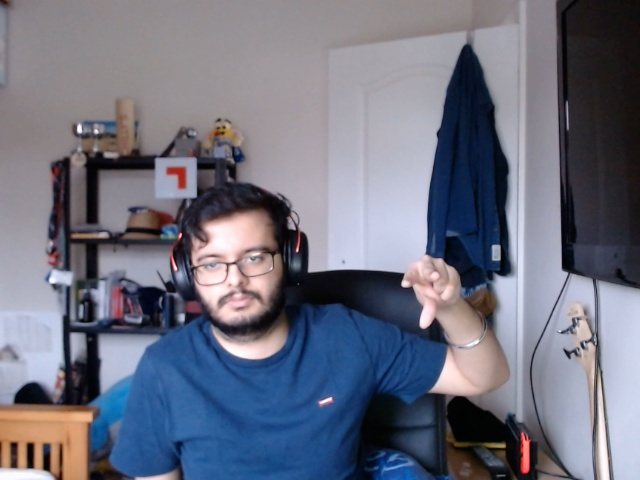No: (392, 253, 472, 335)
